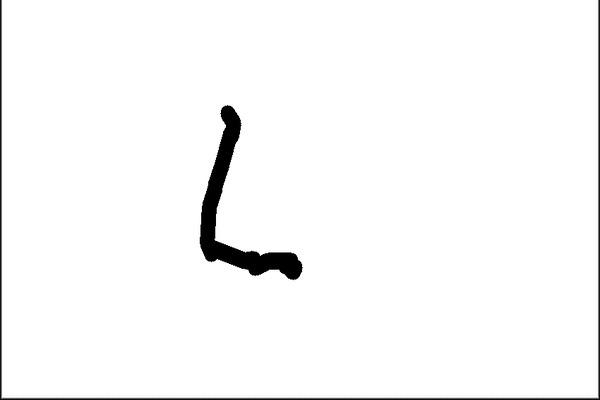L: (192, 99, 312, 287)
